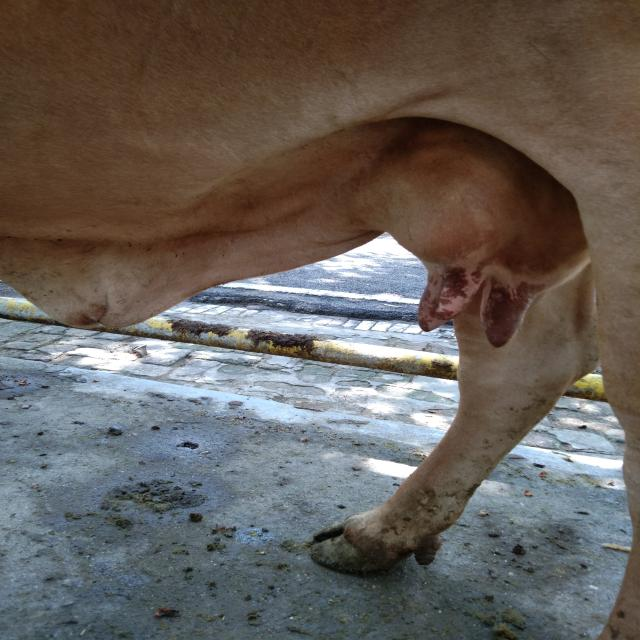Hoof: (309, 512, 441, 575)
